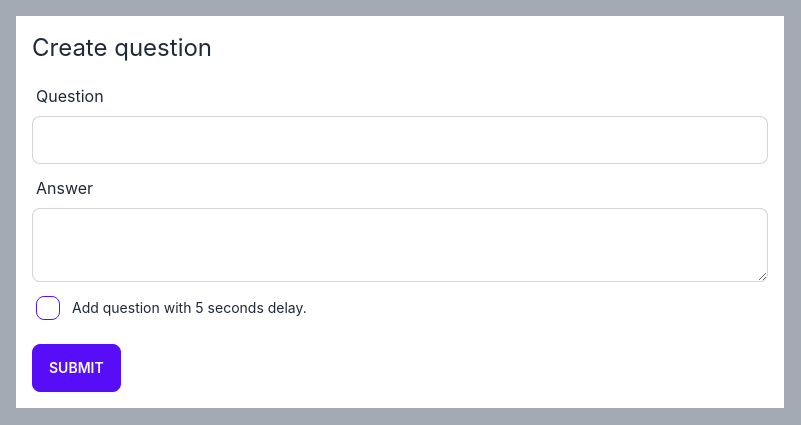
widget > Home > List › add mode async
This screenshot has width=801, height=425.
Type "question" into the field with test id "question" at x=400, y=140, box [32,116,768,164]
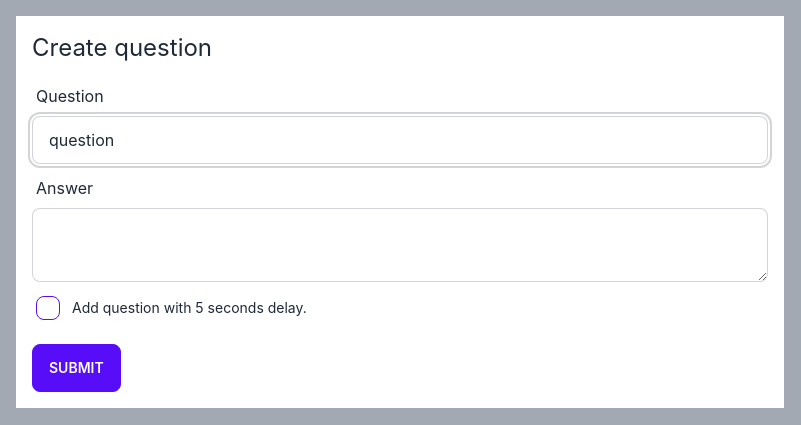
Type "answer" into the text box with test id "answer" at x=400, y=245, box [32,208,768,282]
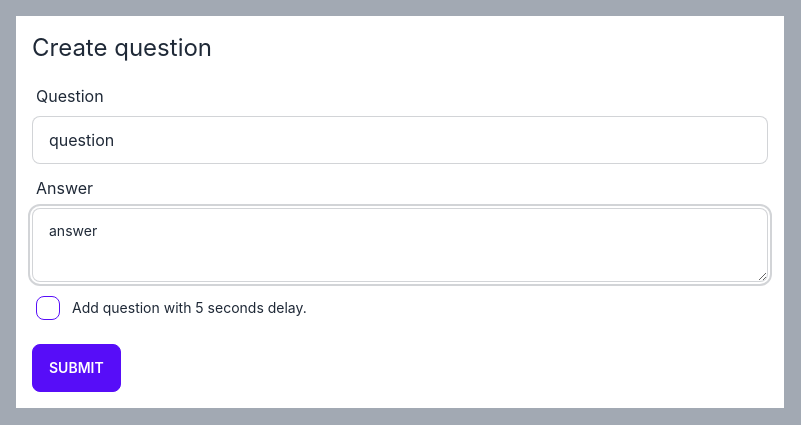
Click the checkbox at x=48, y=308, box [36,296,60,320]
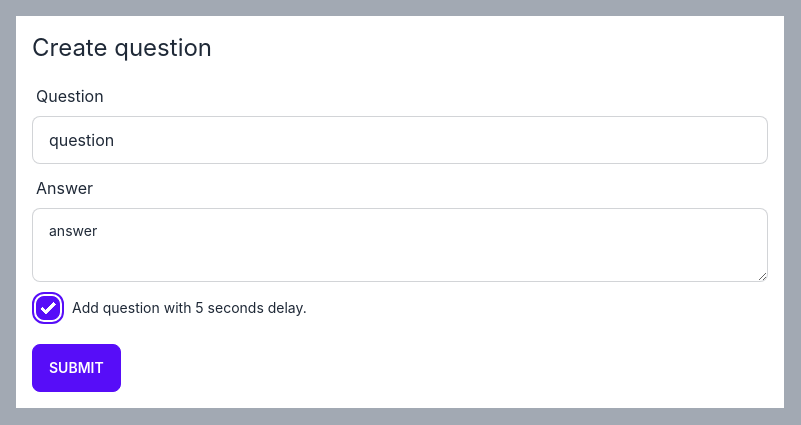
Click the button "Submit" at x=76, y=368, box [32,344,121,392]
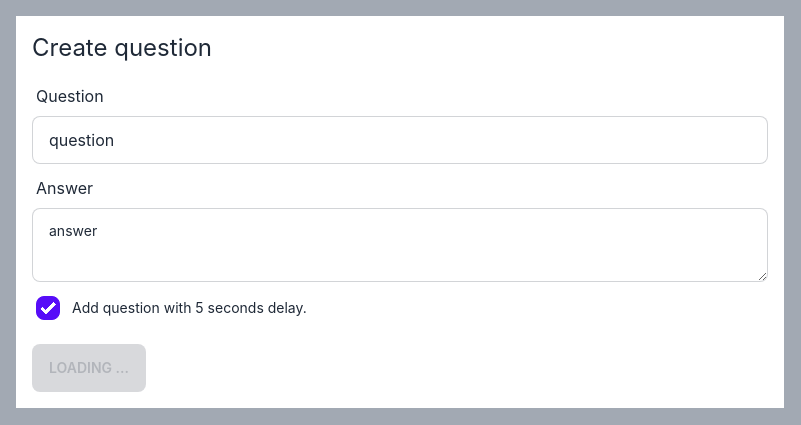
Expected: the button "Loading ..." is disabled, [32,344,146,392]
